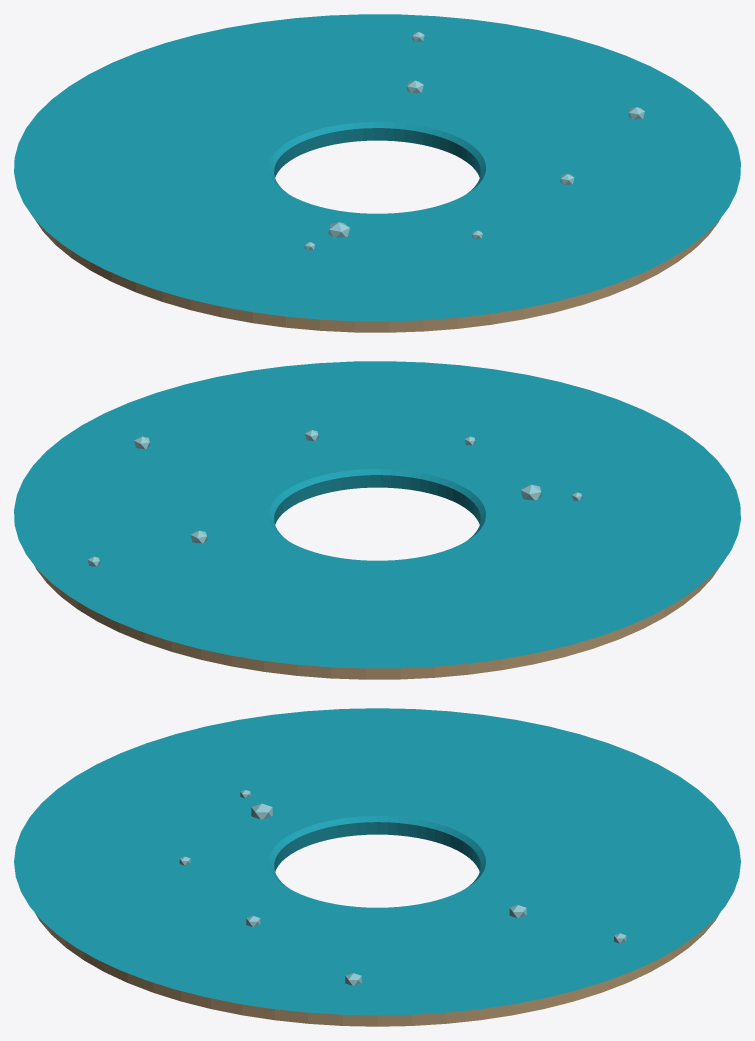
Rendered from goo_jar_deck_4@beach.fbx.
3 renders of one model, top to bottom at view 1: azimuth 30°, elevation 25°; view 2: azimuth 150°, elevation 25°; view 3: azimuth 270°, elevation 25°, orthographic.
Visible parts, largest first — view 1: goo_jar_deck_4; view 2: goo_jar_deck_4; view 3: goo_jar_deck_4.
Part boxes in pixels (box(x1,y1,x2,y2)): goo_jar_deck_4: box(14, 14, 740, 332); goo_jar_deck_4: box(14, 361, 740, 679); goo_jar_deck_4: box(14, 708, 740, 1026).
Bounding box in the file's own units: 42.2 × 1.78 × 42.2.
